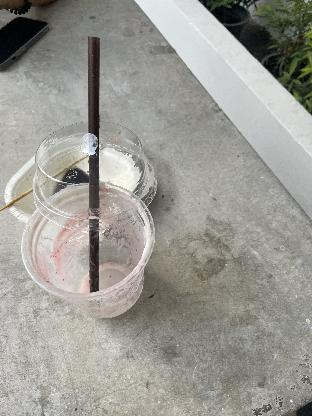Plastic Cup: (19, 184, 157, 322), (25, 120, 162, 232)
